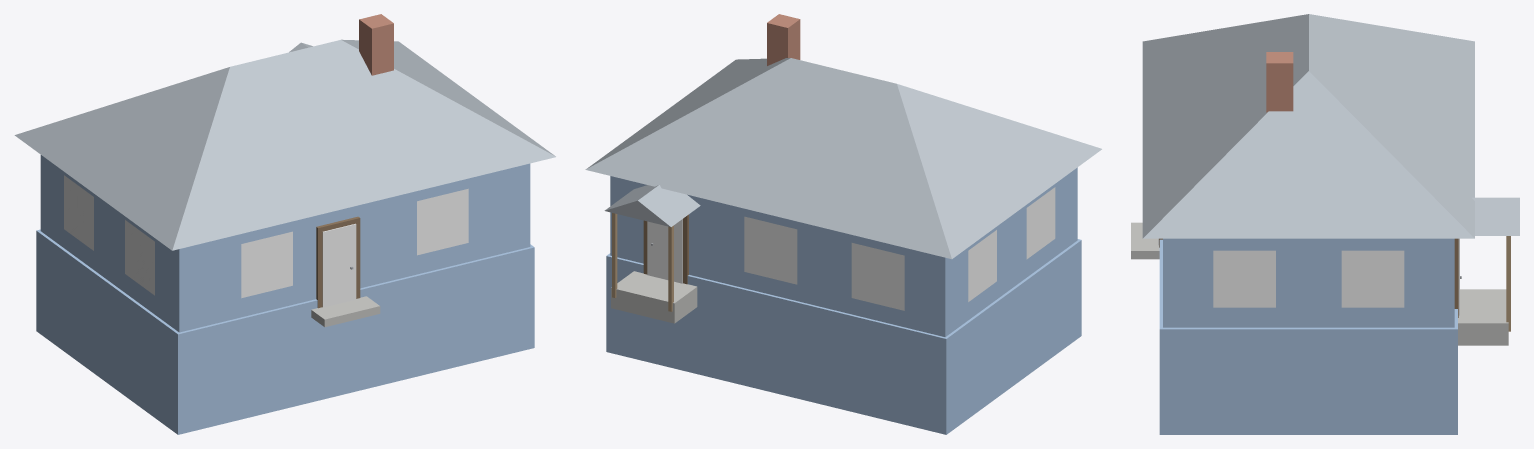
Rendered from khata_tin.glb.
3 renders of one model, left to right at view 1: azimuth 30°, elevation 25°; view 2: azimuth 150°, elevation 25°; view 3: azimuth 270°, elevation 25°, orthographic. The views are drawn at different scales.
Visible parts, largest first — view 1: khata_tin; view 2: khata_tin; view 3: khata_tin.
Part boxes in pixels (x1,y1,x2,y2): khata_tin: (14, 14, 555, 434); khata_tin: (585, 14, 1101, 434); khata_tin: (1131, 14, 1519, 434).
Size of what is drawn, in the model's own units: 10.4 by 8 by 8.66.
